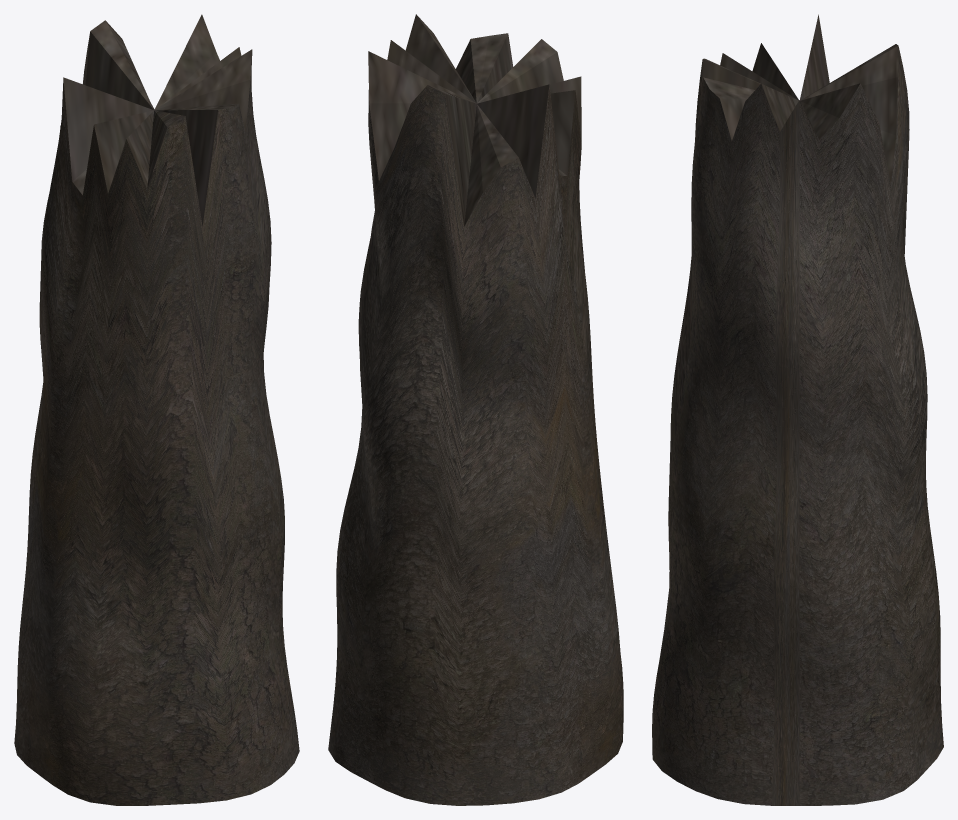
File: stump_snag.glb
3 views of the same model, side by side, from view 1: azimuth 30°, elevation 25°; view 2: azimuth 150°, elevation 25°; view 3: azimuth 270°, elevation 25° (orthographic).
Parts seen in each view (by area): view 1: stump_snag; view 2: stump_snag; view 3: stump_snag.
Part boxes in pixels (left/top/right/bottom): stump_snag: left=14, top=14, right=299, bottom=805; stump_snag: left=328, top=14, right=623, bottom=805; stump_snag: left=652, top=14, right=943, bottom=805.
Bounding box in the file's own units: 0.4268 × 1.19 × 0.4478.
Materials: 1 (1 with a texture image).
